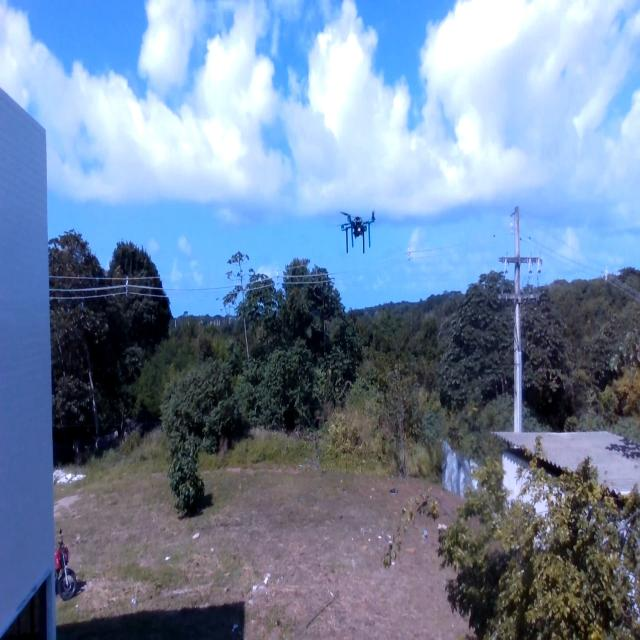-uav-: (333, 192, 382, 258)
